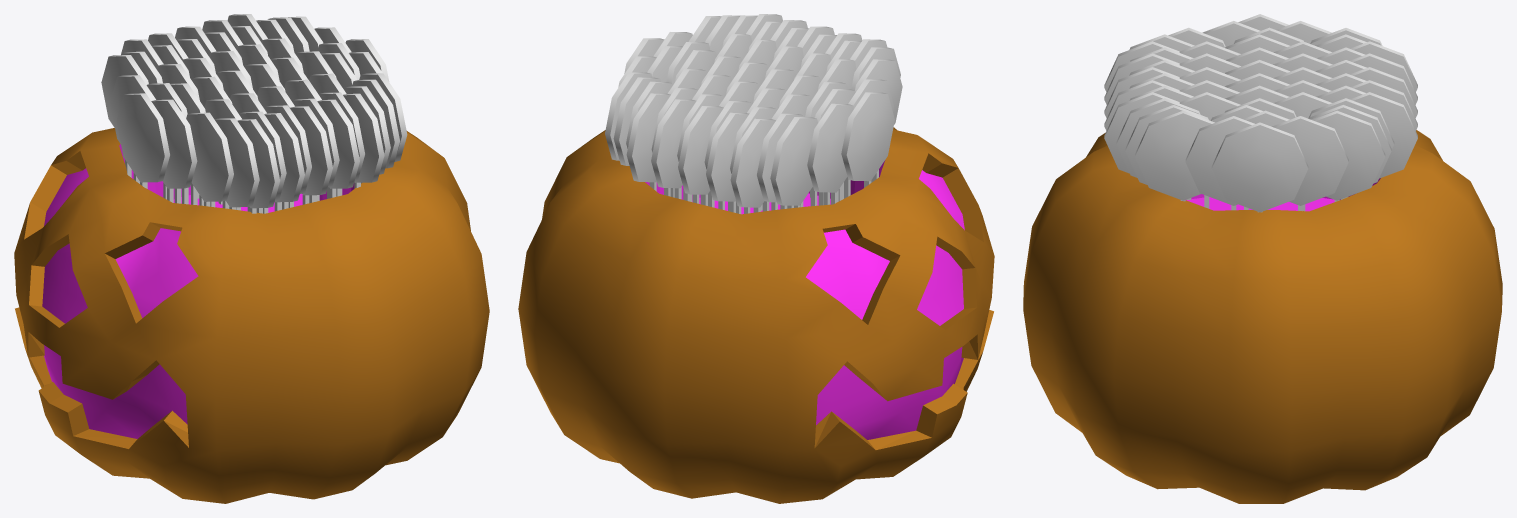
File: CandyOnPum.FBX
3 views of the same model, side by side, from view 1: azimuth 30°, elevation 25°; view 2: azimuth 150°, elevation 25°; view 3: azimuth 270°, elevation 25° (orthographic).
Parts seen in each view (by area): view 1: Sphere003, Cylinder059, Cylinder054, Cylinder057, Cylinder051, Cylinder027, Cylinder023, Cylinder035, Cylinder019, Cylinder031, Cylinder056, Cylinder010 (+33 smaller); view 2: Sphere003, Cylinder059, Cylinder056, Cylinder058, Cylinder025, Cylinder033, Cylinder021, Cylinder015, Cylinder029, Cylinder053, Cylinder004, Cylinder054 (+29 smaller); view 3: Sphere003, Cylinder007, Cylinder006, Cylinder017, Cylinder005, Cylinder008, Cylinder015, Cylinder019, Cylinder011, Cylinder010, Cylinder016, Cylinder004 (+27 smaller).
Part boxes in pixels (box(x1,y1,x2,y2)): Sphere003: box(14, 128, 489, 503); Cylinder059: box(116, 93, 169, 188); Cylinder054: box(186, 112, 233, 206); Cylinder057: box(151, 99, 197, 202); Cylinder051: box(214, 118, 259, 209); Cylinder027: box(290, 106, 332, 204); Cylinder023: box(317, 99, 359, 198); Cylinder035: box(237, 119, 280, 213); Cylinder019: box(343, 93, 384, 188); Cylinder031: box(264, 113, 304, 211); Cylinder056: box(101, 55, 148, 177); Cylinder010: box(352, 79, 399, 168); Sphere003: box(518, 127, 994, 503); Cylinder059: box(841, 92, 894, 186); Cylinder056: box(770, 117, 817, 207); Cylinder058: box(807, 103, 853, 204); Cylinder025: box(678, 106, 723, 205); Cylinder033: box(730, 118, 775, 212); Cylinder021: box(651, 99, 696, 199); Cylinder015: box(626, 93, 670, 191); Cylinder029: box(706, 112, 749, 212); Cylinder053: box(757, 113, 803, 209); Cylinder004: box(613, 77, 660, 165); Cylinder054: box(855, 59, 902, 181); Sphere003: box(1023, 130, 1502, 503); Cylinder007: box(1211, 122, 1308, 212); Cylinder006: box(1135, 110, 1214, 201); Cylinder017: box(1272, 116, 1348, 211); Cylinder005: box(1312, 110, 1385, 201); Cylinder008: box(1185, 116, 1254, 210); Cylinder015: box(1350, 92, 1417, 178); Cylinder019: box(1104, 92, 1179, 173); Cylinder011: box(1116, 98, 1200, 177); Cylinder010: box(1125, 105, 1208, 184); Cylinder016: box(1179, 92, 1240, 208); Cylinder004: box(1308, 105, 1391, 199).
Bounding box in the file's own units: 98.96 × 84.06 × 99.29.
